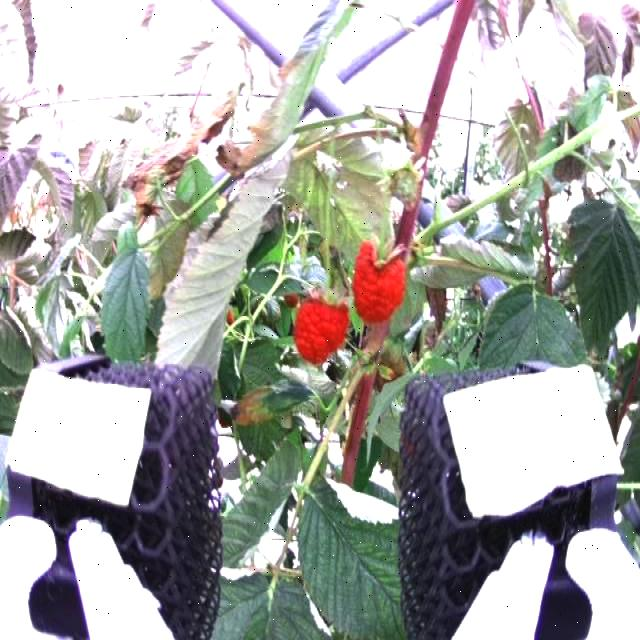Riped berries: (353, 236, 409, 320), (293, 288, 348, 367)
